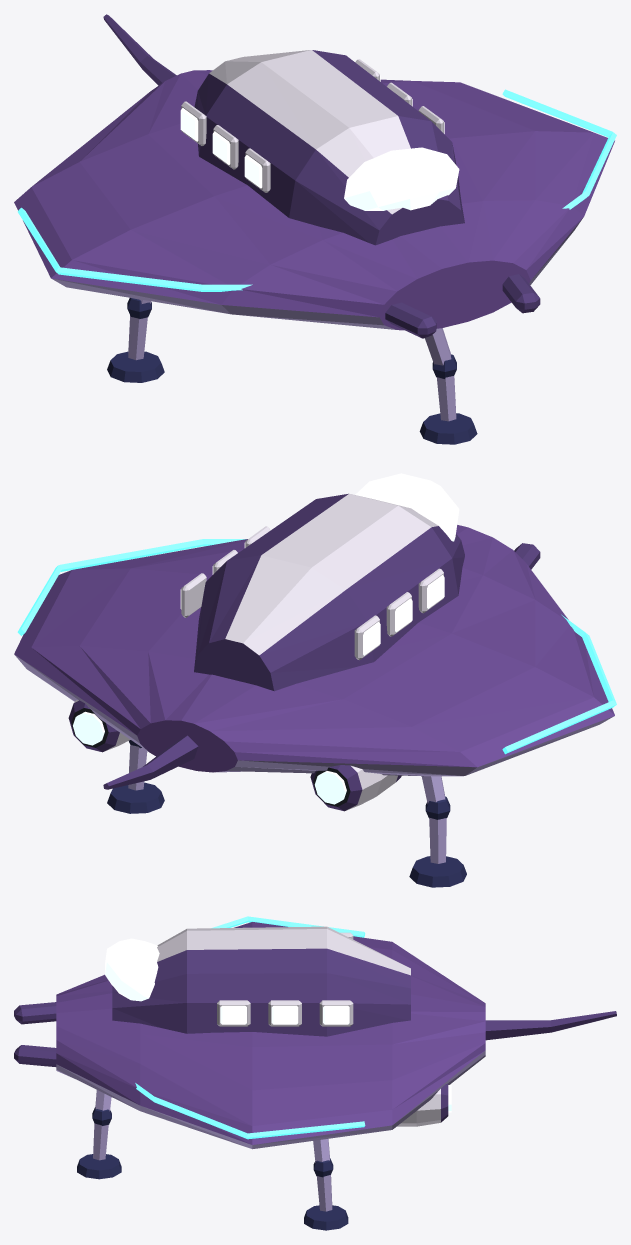
The model's file is aby-p_gelandet.glb.
The picture shows the model from 3 angles, top to bottom: view 1: azimuth 30°, elevation 25°; view 2: azimuth 150°, elevation 25°; view 3: azimuth 270°, elevation 25°; orthographic projection. The views are drawn at different scales.
Visible parts, largest first — view 1: mantarumpf, mittelkabine, cockpit, lichtleisten, fenster, landebein_1, landebein_3, kopfflossen, schwanz; view 2: mantarumpf, mittelkabine, fenster, lichtleisten, cockpit, landebein_3, triebwerk_r, landebein_2, triebwerk_l, schwanz; view 3: mantarumpf, mittelkabine, fenster, cockpit, lichtleisten, landebein_2, landebein_1, schwanz, kopfflossen, triebwerk_l.
Part boxes in pixels (x1,y1,x2,y2): mantarumpf: (14,70,614,330); mittelkabine: (194,50,464,245); cockpit: (344,147,459,210); lichtleisten: (17,89,616,291); fenster: (180,59,444,192); landebein_1: (419,328,477,444); landebein_3: (107,298,164,382); kopfflossen: (385,274,540,338); schwanz: (103,14,176,85); mantarumpf: (14,525,614,776); mittelkabine: (194,493,464,691); fenster: (180,526,444,659); lichtleisten: (17,539,616,754); cockpit: (355,473,459,541); landebein_3: (409,776,466,887); triebwerk_r: (310,765,401,811); landebein_2: (107,740,164,813); triebwerk_l: (68,700,130,752); schwanz: (103,735,198,789); mantarumpf: (56,922,485,1149); mittelkabine: (112,926,410,1036); fenster: (217,932,353,1026); cockpit: (105,938,159,1001); lichtleisten: (135,916,365,1139); landebein_2: (304,1138,348,1230); landebein_1: (77,1090,121,1179); schwanz: (485,1011,616,1040); kopfflossen: (14,1002,56,1066); triebwerk_l: (397,1084,451,1126).
Bounding box in the file's own units: 0.14 × 0.0658 × 0.1615.
